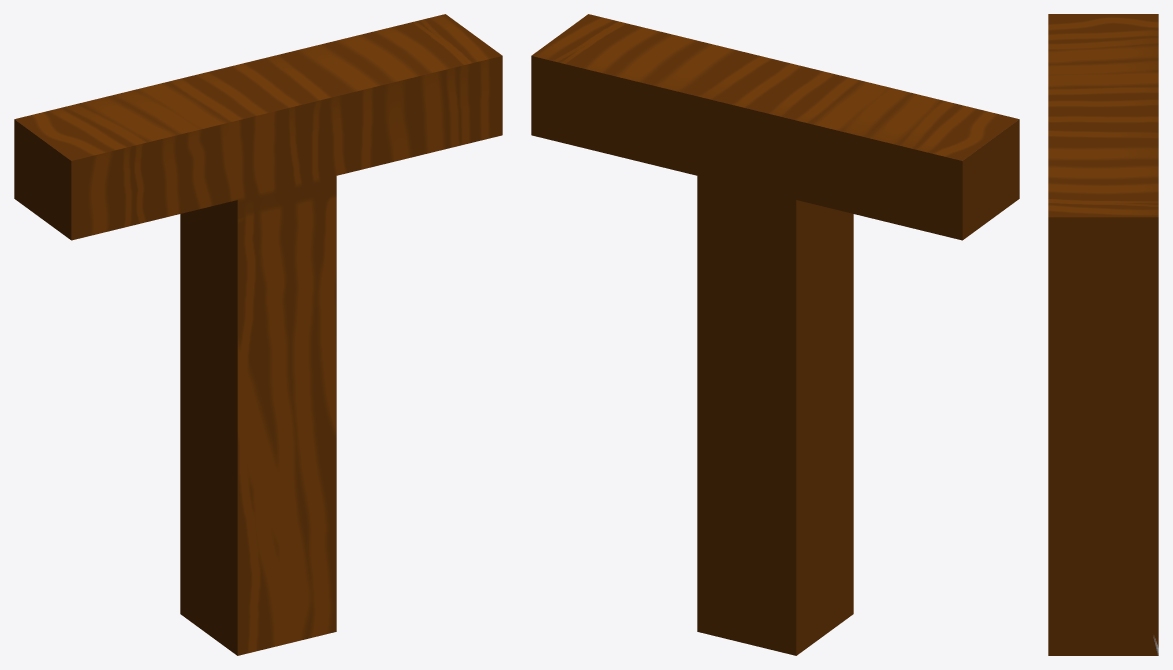
File: 3ObjPlatfrom.fbx
The picture shows the model from 3 angles, left to right: view 1: azimuth 30°, elevation 25°; view 2: azimuth 150°, elevation 25°; view 3: azimuth 270°, elevation 25°; orthographic projection. The views are drawn at different scales.
Visible parts, largest first — view 1: Cube; view 2: Cube; view 3: Cube.
Boxes of the visible parts, x1,y1,x2,y2 form: Cube: [14, 14, 502, 655]; Cube: [531, 14, 1019, 655]; Cube: [1048, 14, 1158, 655].
Size of the model in its own units: 872 by 1034 by 200.
1 material, 1 textured.
